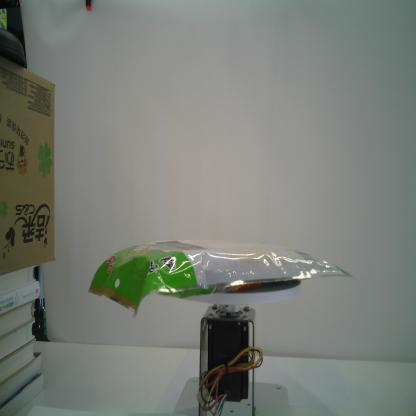Dried Food: (85, 234, 354, 324)
